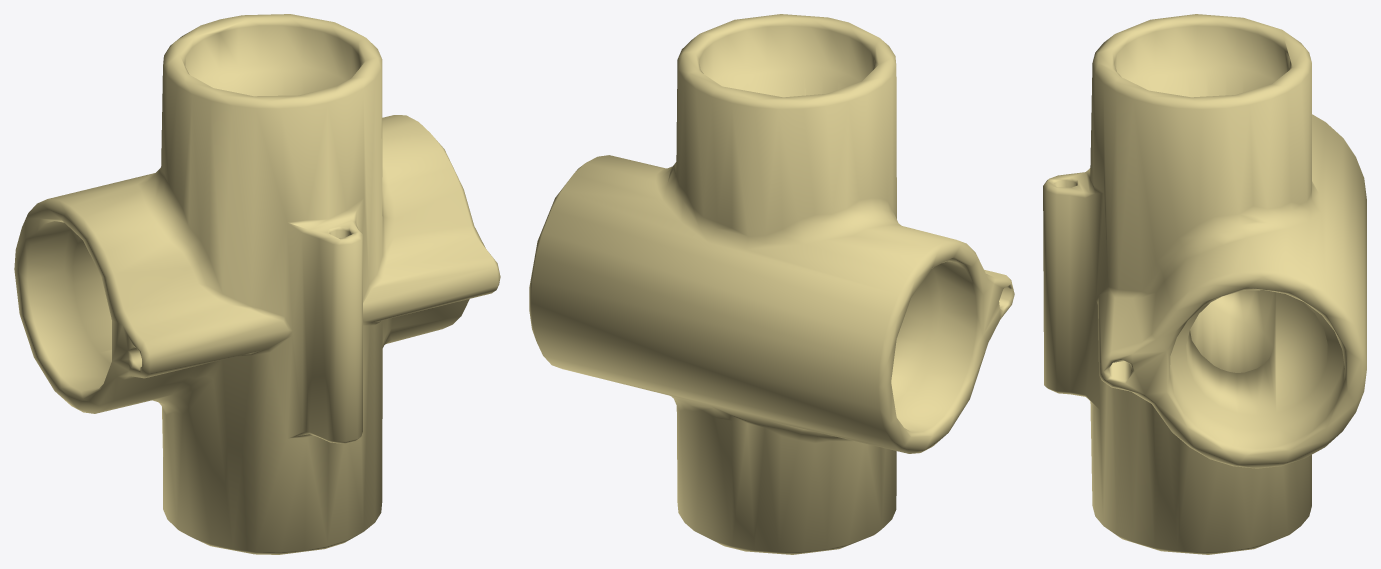
The model's file is ankle.obj.
3 views of the same model, side by side, from view 1: azimuth 30°, elevation 25°; view 2: azimuth 150°, elevation 25°; view 3: azimuth 270°, elevation 25° (orthographic).
Size of the model in its own units: 0.075 by 0.091 by 0.059.
